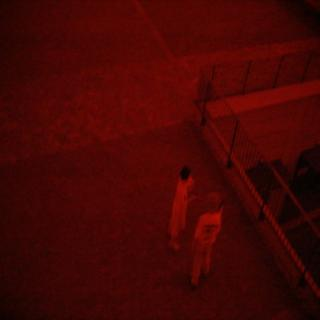person: (187, 183, 228, 289), (164, 156, 193, 253)
